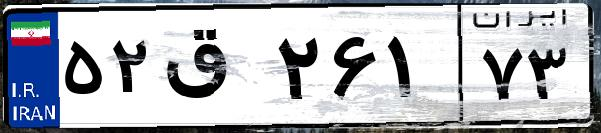1: (385, 28, 445, 110)
2: (270, 28, 330, 110), (110, 28, 158, 98)
3: (525, 38, 570, 115)
5: (57, 26, 110, 100)
6: (330, 28, 385, 110)
7: (475, 38, 525, 113)
ق: (158, 20, 270, 120)
